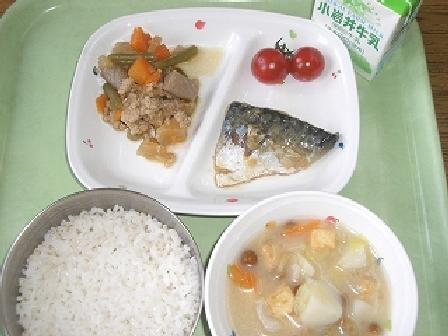Cherry tomatoes: (249, 34, 336, 94)
Fish: (204, 87, 337, 192)
Milk: (313, 3, 420, 65)
Rice: (0, 187, 198, 332)
Soups: (205, 199, 427, 333)
cooked food meat with vegetables: (78, 25, 209, 158)
